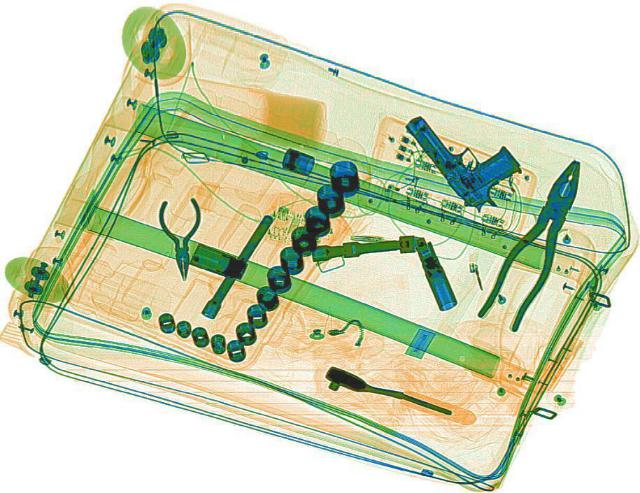Gun: (396, 95, 540, 214)
Pliers: (471, 155, 605, 332), (158, 195, 205, 280)
